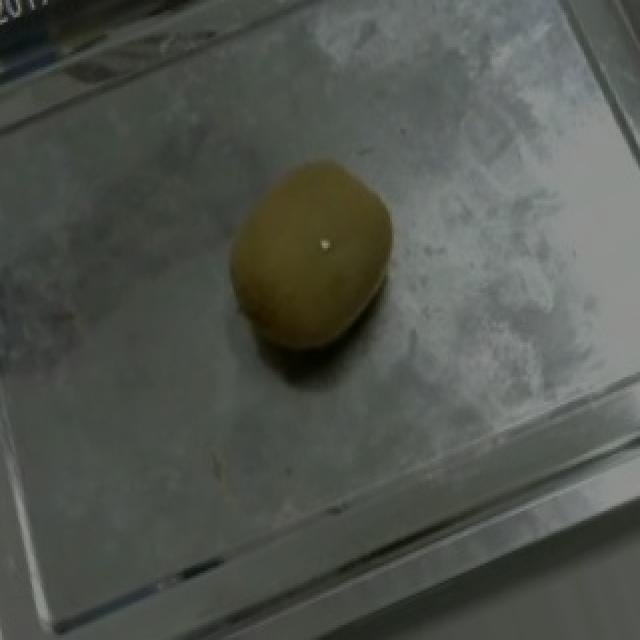Fruit: (190, 129, 430, 394)
